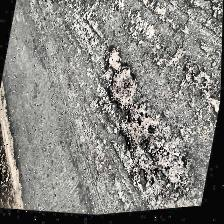pothole: (83, 42, 178, 168)
